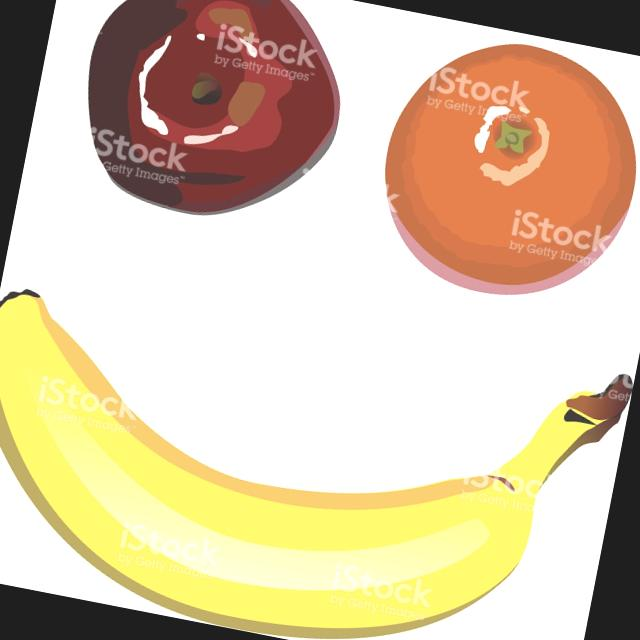apple: (69, 0, 365, 244)
banana: (0, 294, 573, 640)
orange: (353, 20, 640, 322)
